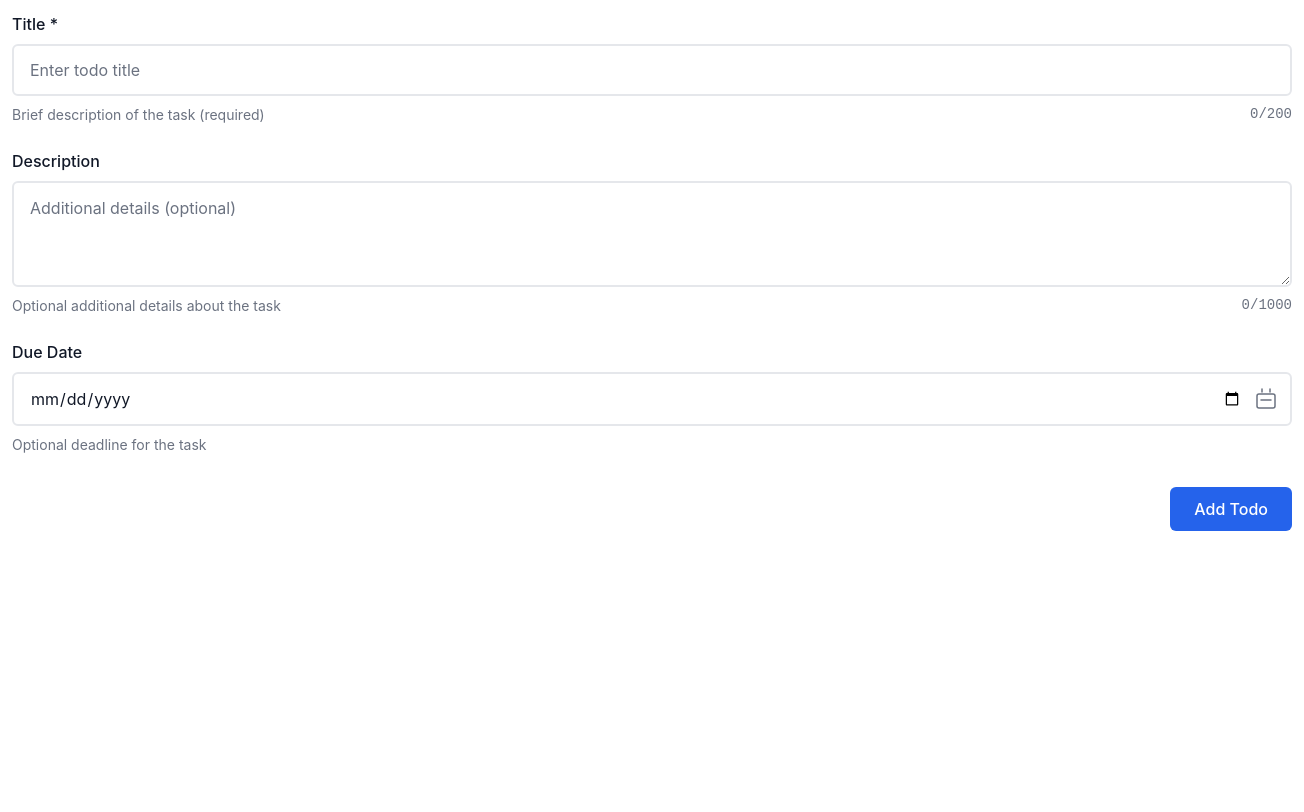
Scenario: TodoForm › Form Submission › handles submission errors
Type "Test Todo" into the field labelled "Title *" at (652, 70), box [12, 44, 1292, 96]
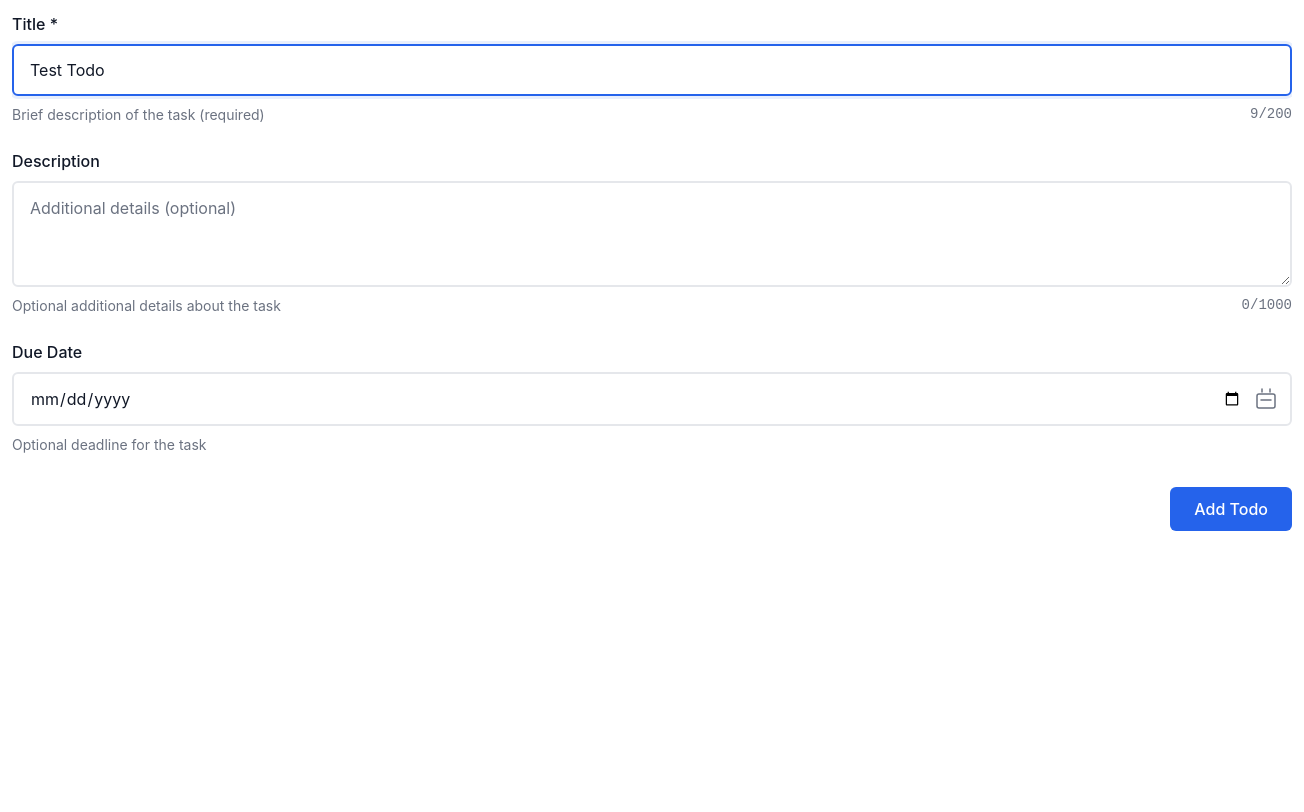
Click the button "Add Todo" at (1231, 509), box [1170, 487, 1292, 531]
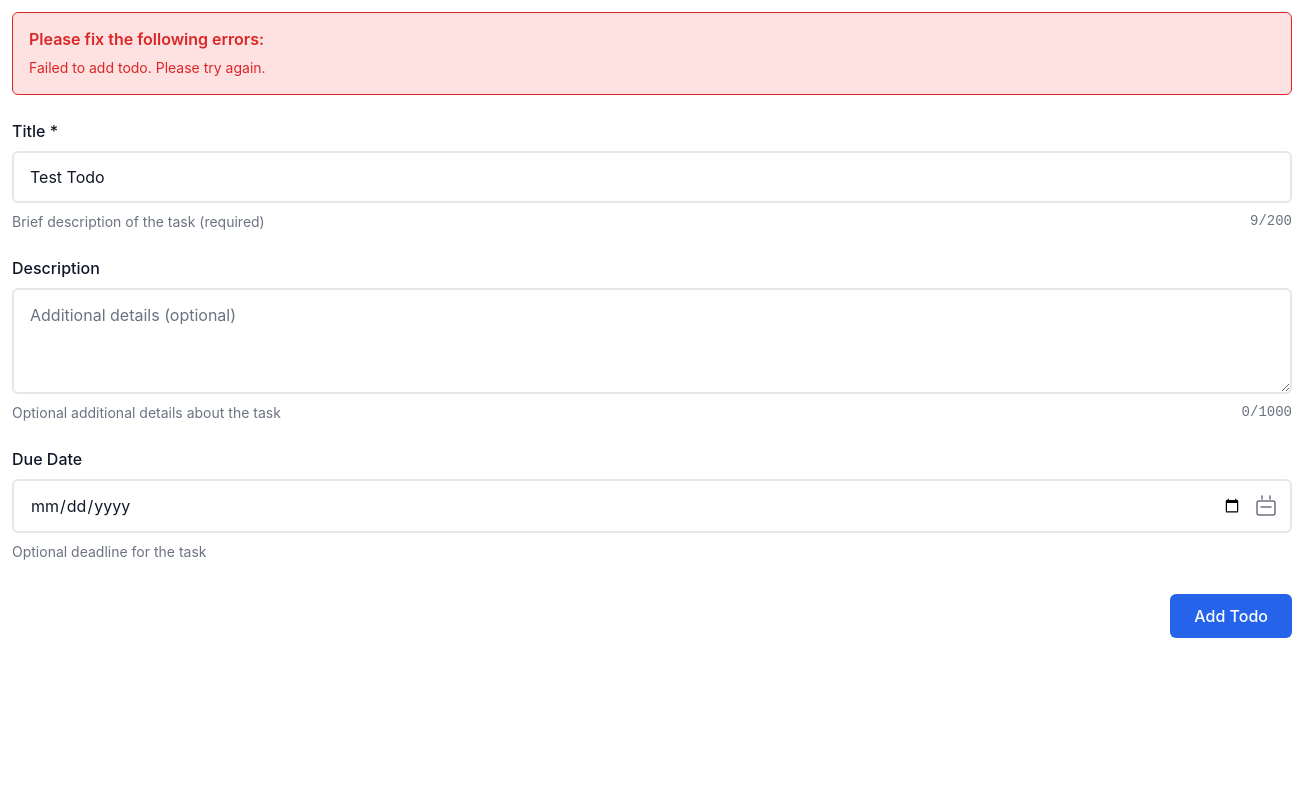
Check: the list item "Failed to add todo. Please try again." is shown, box [29, 59, 266, 76]
